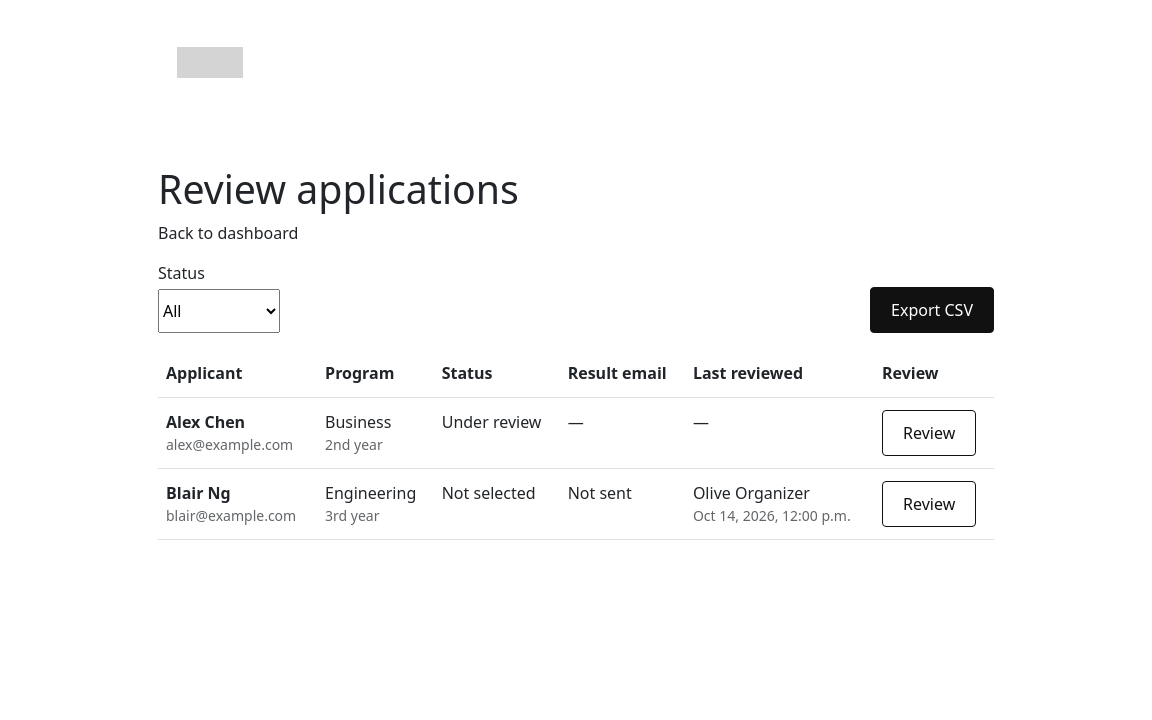
Test: OrganizerReview › records an acceptance with an internal note and refreshes history
Expected: the column heading "Alex Chen" is shown, [166,411,245,433]
Click the button "Review" in the row of "Alex Chen".
click(929, 433)  # box [882,410,976,456]
(page scrolled)
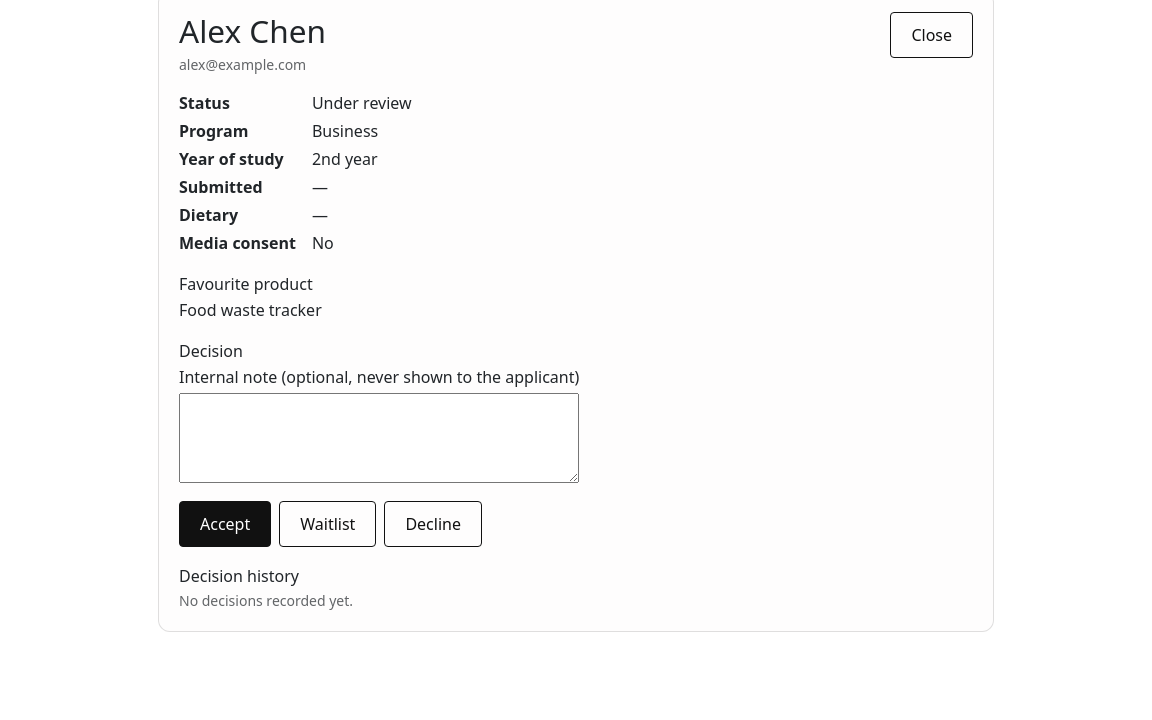
Type "Strong pitch" into the text box labelled "Internal note (optional, never shown to the applicant)".
click(379, 438); type("Strong pitch")  # box [179,393,579,483]
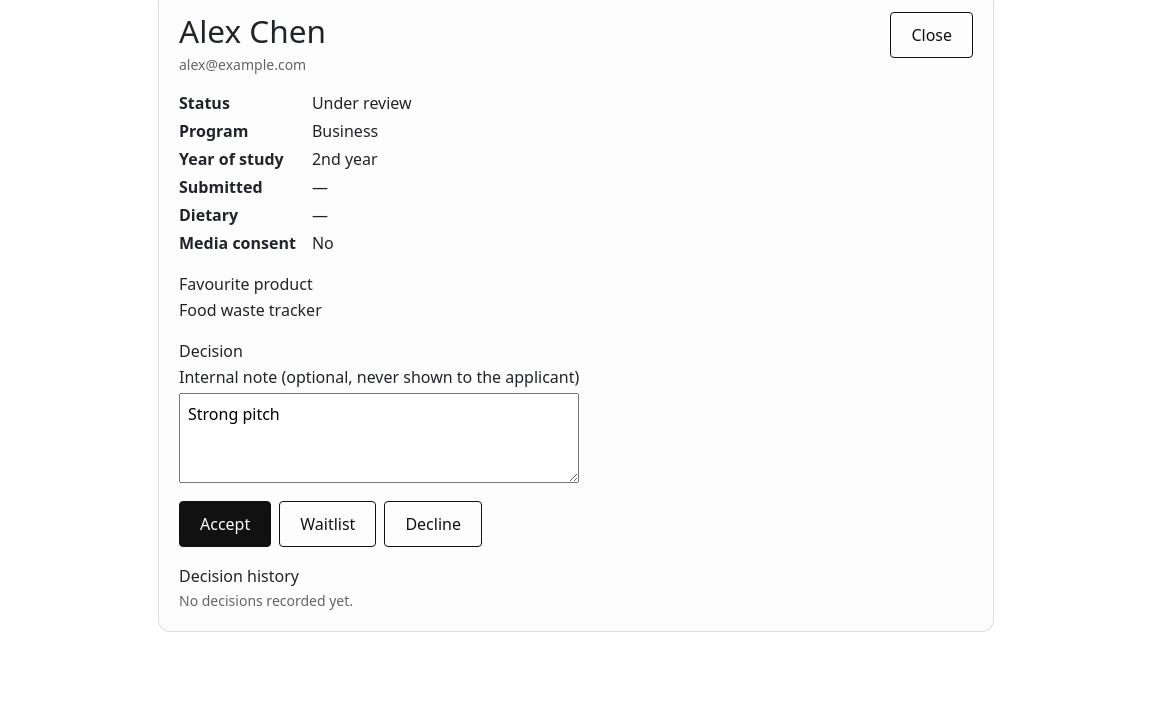
Click the button "Accept".
click(225, 524)  # box [179,501,271,547]
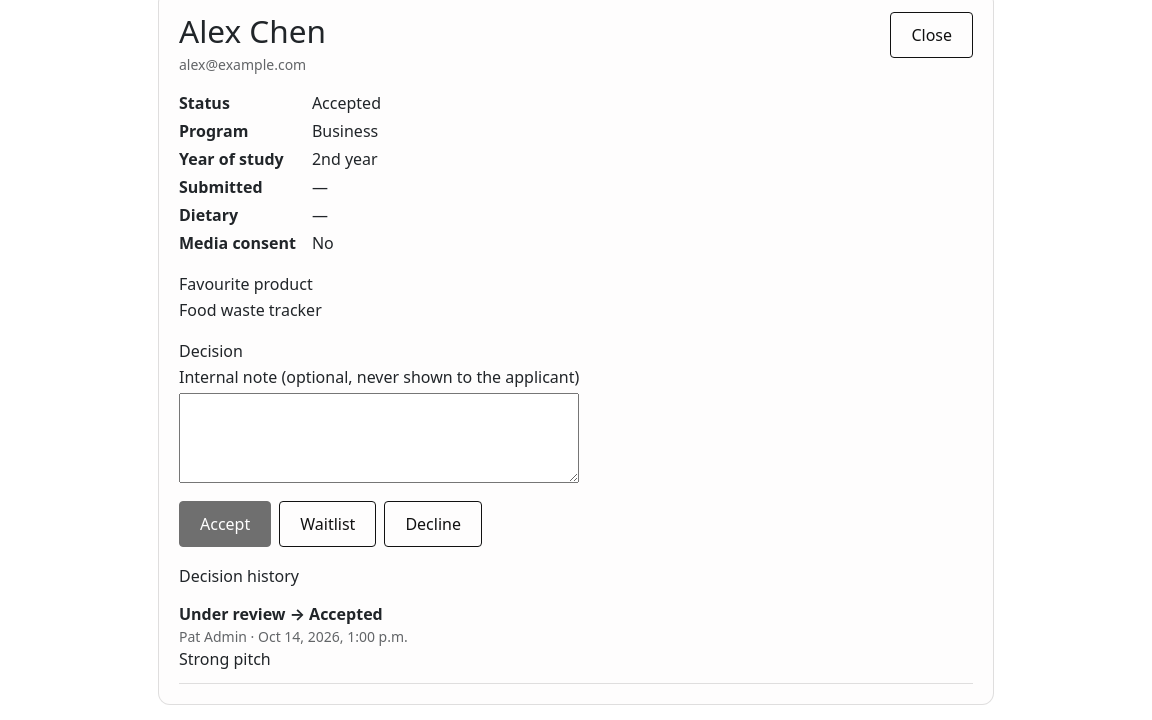
Result: the element named "Review Alex Chen" shows "Pat Admin" at [179,627,247,646]
Result: the element named "Review Alex Chen" shows "Strong pitch" at [179,648,271,670]
Result: the button "Accept" is disabled at [179,501,271,547]
